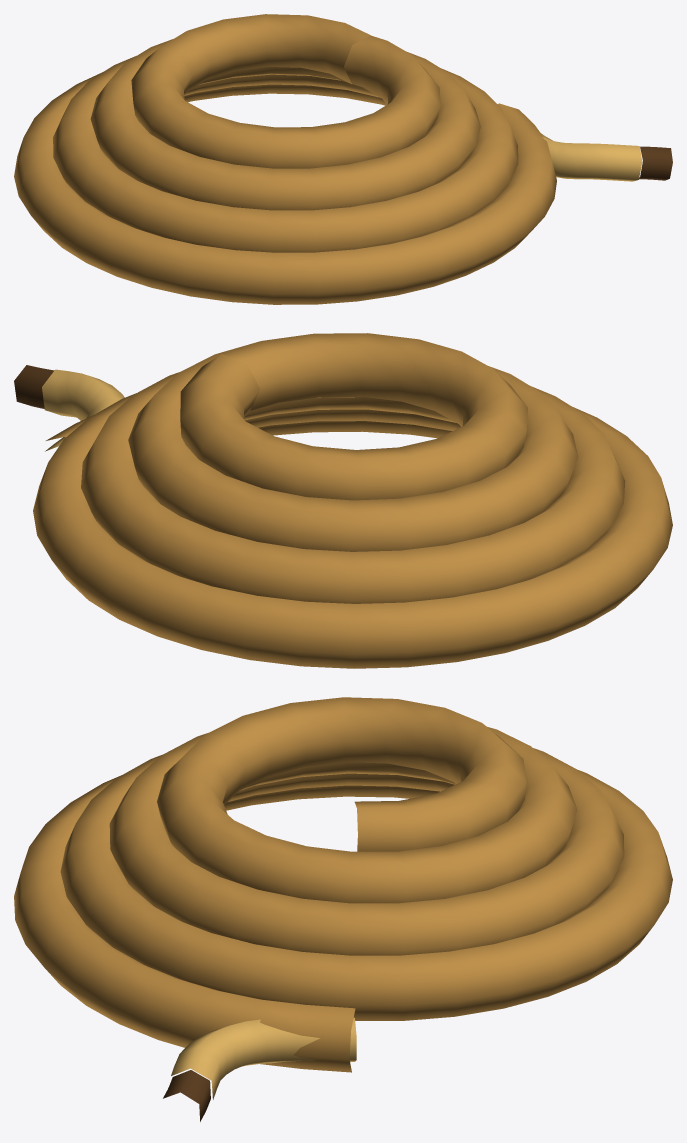
File: mia-rope_coil.glb
The picture shows the model from 3 angles, top to bottom: view 1: azimuth 30°, elevation 25°; view 2: azimuth 150°, elevation 25°; view 3: azimuth 270°, elevation 25°; orthographic projection. The views are drawn at different scales.
Visible parts, largest first — view 1: Body_hay-mid, Body_hay-light, Body_wood; view 2: Body_hay-mid, Body_hay-light, Body_wood; view 3: Body_hay-mid, Body_hay-light, Body_wood.
Boxes of the visible parts, x1=… form: Body_hay-mid: x1=14, y1=14, x2=556, y2=304; Body_hay-light: x1=541, y1=133, x2=642, y2=181; Body_wood: x1=639, y1=146, x2=672, y2=180; Body_hay-mid: x1=33, y1=333, x2=672, y2=668; Body_hay-light: x1=42, y1=369, x2=124, y2=451; Body_wood: x1=14, y1=365, x2=54, y2=408; Body_hay-mid: x1=14, y1=697, x2=672, y2=1072; Body_hay-light: x1=171, y1=1017, x2=356, y2=1099; Body_wood: x1=163, y1=1070, x2=210, y2=1121.
Size of the model in its own units: 0.6866 by 0.1747 by 0.5657.
